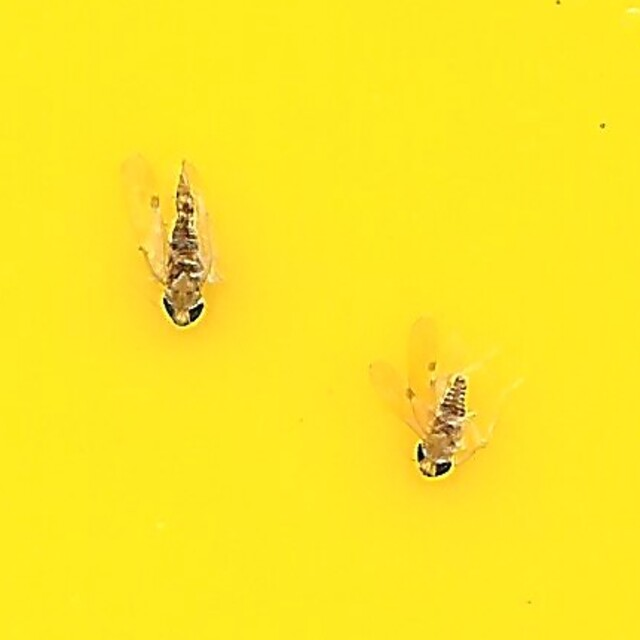Hemiptera: (391, 337, 492, 482), (148, 158, 217, 331)
